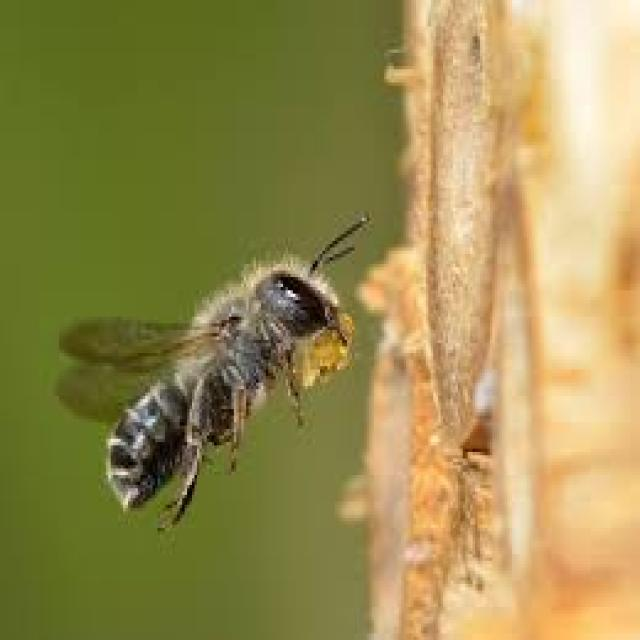Bees: (27, 185, 403, 566)
